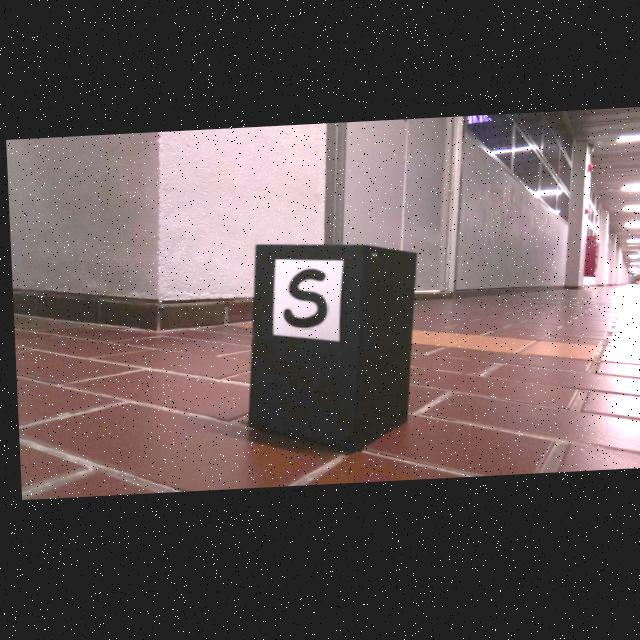S: (280, 272, 326, 332)
